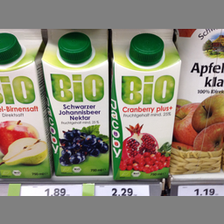juice: (110, 30, 182, 180), (41, 29, 110, 177), (1, 29, 53, 179)
